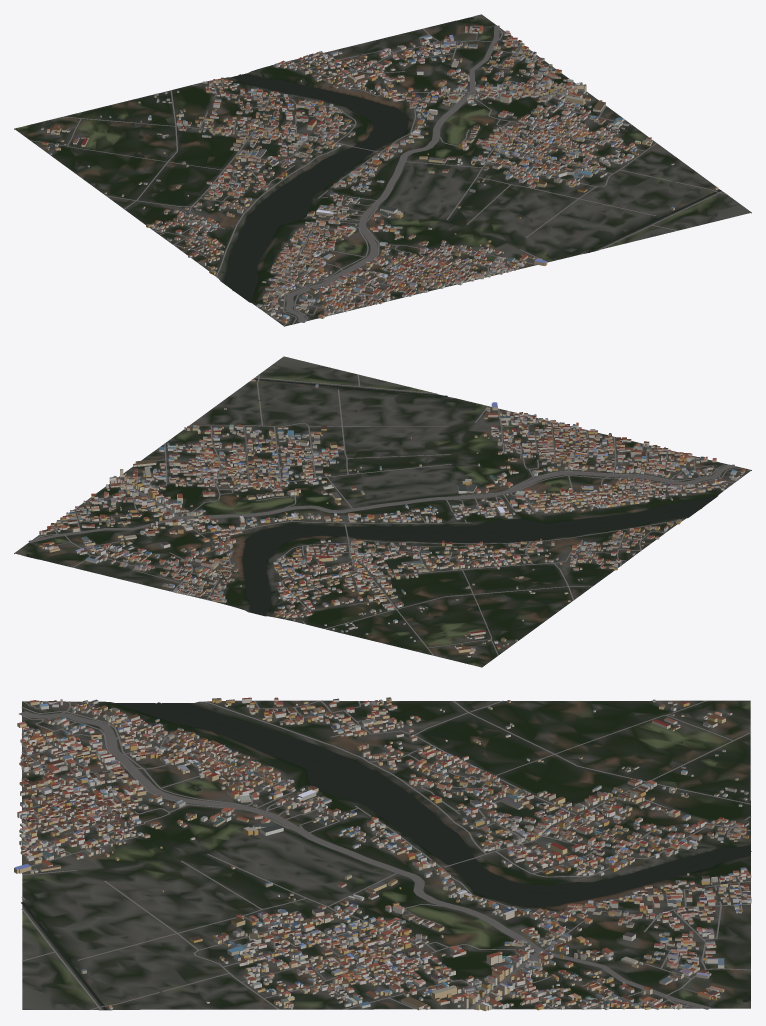
3 views of the same model, one above another, from view 1: azimuth 30°, elevation 25°; view 2: azimuth 150°, elevation 25°; view 3: azimuth 270°, elevation 25° (orthographic). The views are drawn at different scales.
Visible parts, largest first — view 1: ground, buildings, roads, water; view 2: ground, buildings, roads, water; view 3: ground, buildings, water, roads.
Boxes of the visible parts, x1,y1,x2,y2 form: ground: (14, 14, 751, 326); buildings: (41, 25, 718, 323); roads: (30, 25, 726, 325); water: (223, 17, 721, 301); ground: (14, 356, 751, 667); buildings: (39, 379, 745, 657); roads: (28, 374, 751, 655); water: (26, 378, 716, 615); ground: (22, 700, 750, 1010); buildings: (14, 697, 751, 1011); water: (21, 702, 751, 1009); roads: (19, 700, 750, 1009).
Bounding box in the file's own units: 1415 × 28.16 × 1420.
